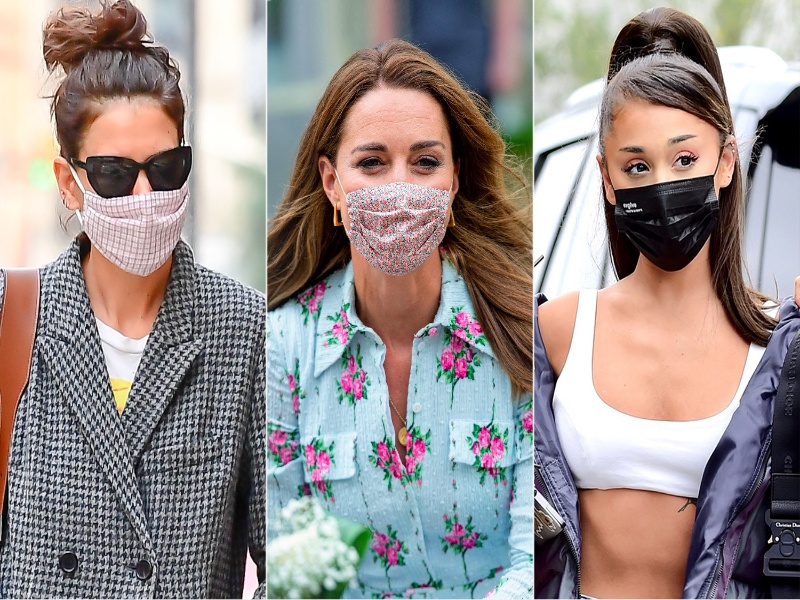mask: (612, 175, 720, 272), (78, 189, 194, 277), (344, 181, 453, 274)
